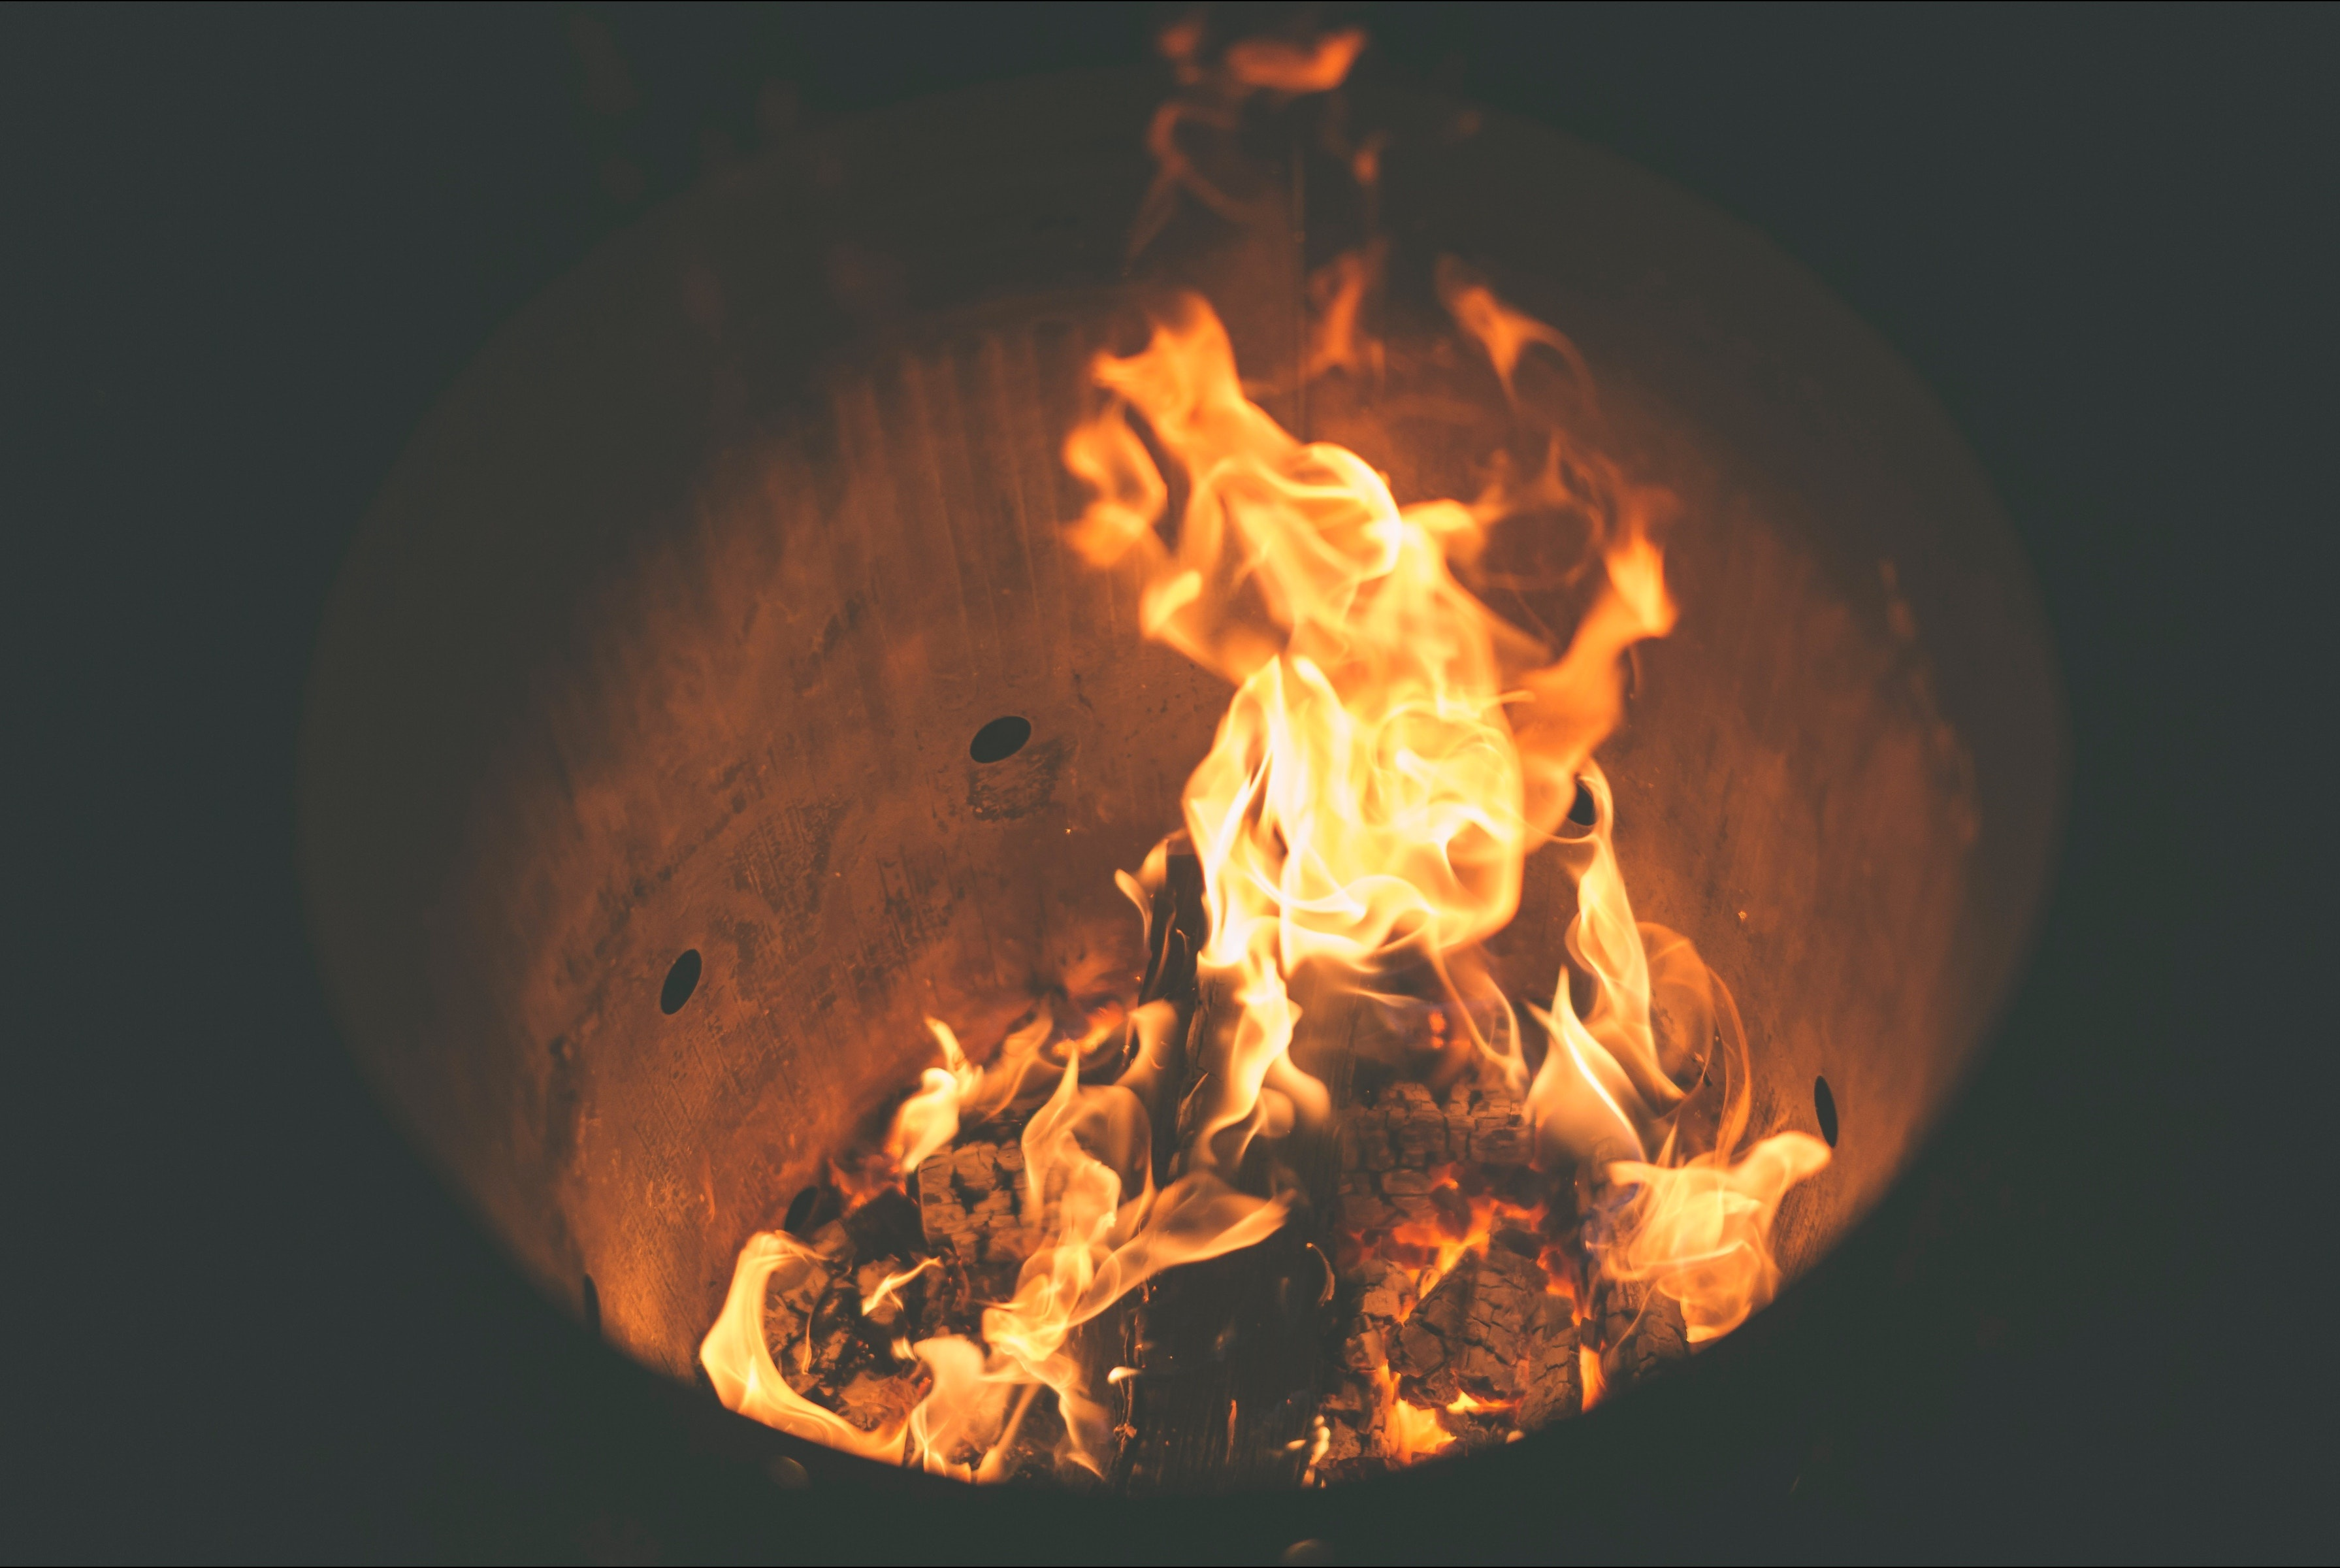fire: (635, 142, 1842, 1529)
